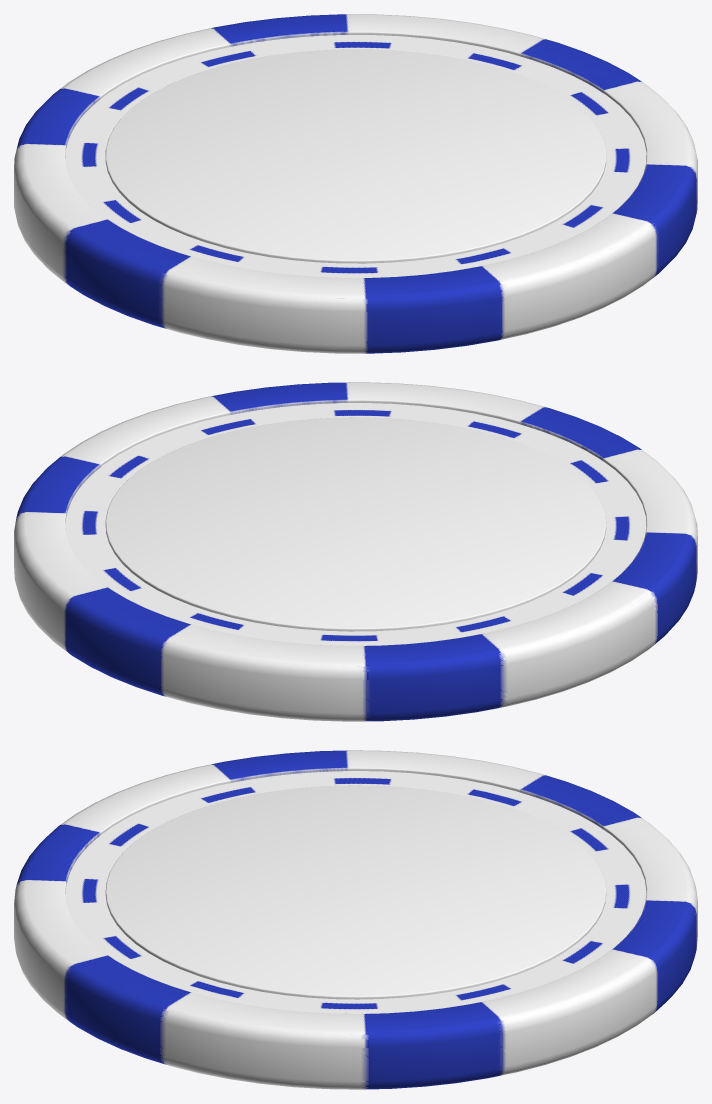
Rendered from white_blue.glb.
3 views of the same model, one above another, from view 1: azimuth 30°, elevation 25°; view 2: azimuth 150°, elevation 25°; view 3: azimuth 270°, elevation 25° (orthographic).
Visible parts, largest first — view 1: chips.455_chips_white_bake_0; view 2: chips.455_chips_white_bake_0; view 3: chips.455_chips_white_bake_0.
Part boxes in pixels (x1,y1,x2,y2): chips.455_chips_white_bake_0: (14,14,697,353); chips.455_chips_white_bake_0: (14,382,697,721); chips.455_chips_white_bake_0: (14,750,697,1089).
Size of the model in its own units: 2 by 0.1882 by 2.
1 material, 1 textured.
